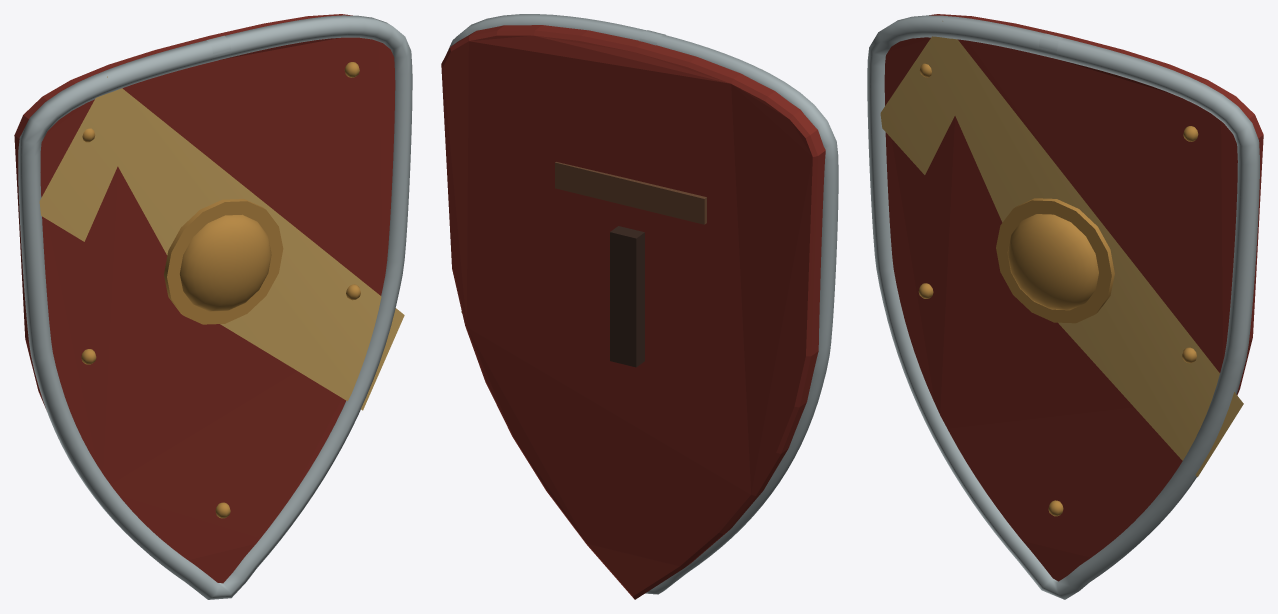
The model's file is shield.glb.
3 views of the same model, side by side, from view 1: azimuth 30°, elevation 25°; view 2: azimuth 150°, elevation 25°; view 3: azimuth 330°, elevation 25° (orthographic).
Visible parts, largest first — view 1: shield-face, shield-face-band, shield-rim-band, shield-boss-dome, shield-boss-flange; view 2: shield-face, shield-rim-band, shield-grip-bar, shield-grip-strap; view 3: shield-face, shield-face-band, shield-rim-band, shield-boss-dome, shield-boss-flange.
Boxes of the visible parts, x1,y1,x2,y2 form: shield-face: [14, 14, 395, 583]; shield-face-band: [39, 76, 404, 410]; shield-rim-band: [18, 15, 412, 599]; shield-boss-dome: [180, 214, 271, 311]; shield-boss-flange: [164, 199, 283, 324]; shield-face: [441, 25, 825, 599]; shield-rim-band: [447, 14, 838, 594]; shield-grip-bar: [610, 226, 644, 367]; shield-grip-strap: [555, 162, 706, 224]; shield-face: [884, 14, 1263, 581]; shield-face-band: [880, 21, 1243, 477]; shield-rim-band: [867, 15, 1259, 599]; shield-boss-dome: [1007, 214, 1098, 310]; shield-boss-flange: [996, 198, 1114, 323].
Size of the model in its own units: 0.4418 by 0.6086 by 0.0816.
